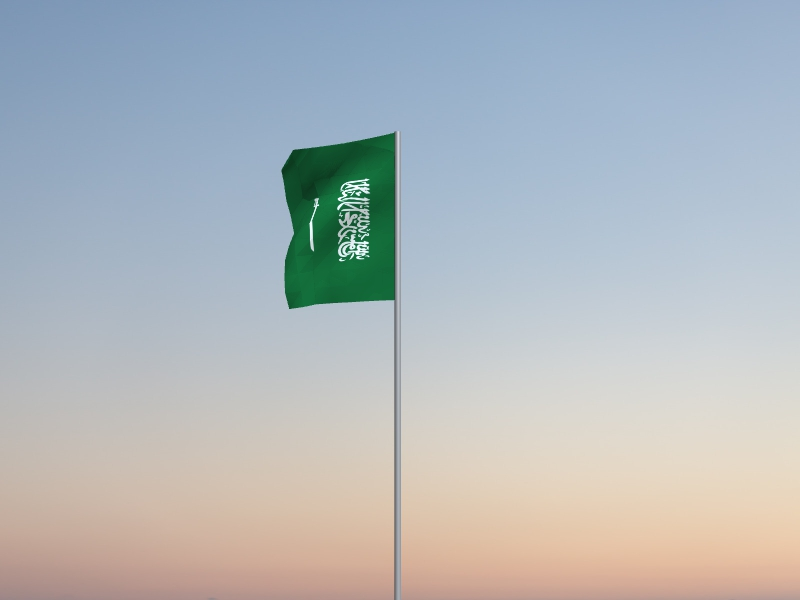sa: (282, 133, 394, 310)
